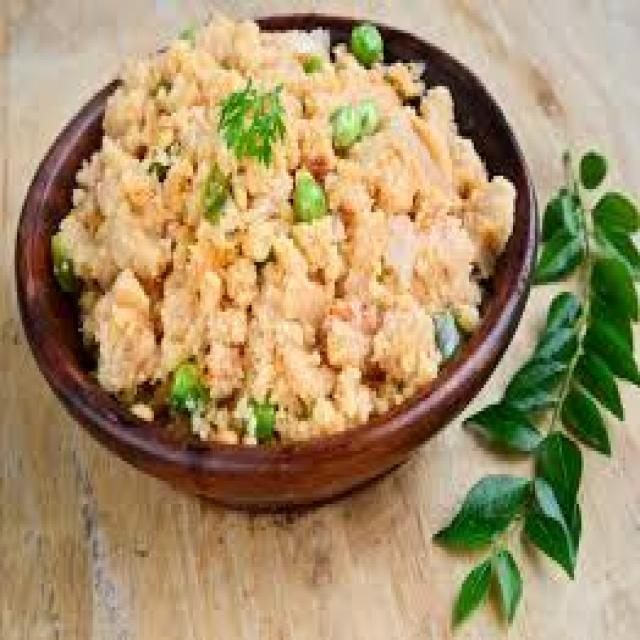UPMA: (54, 17, 513, 441)
